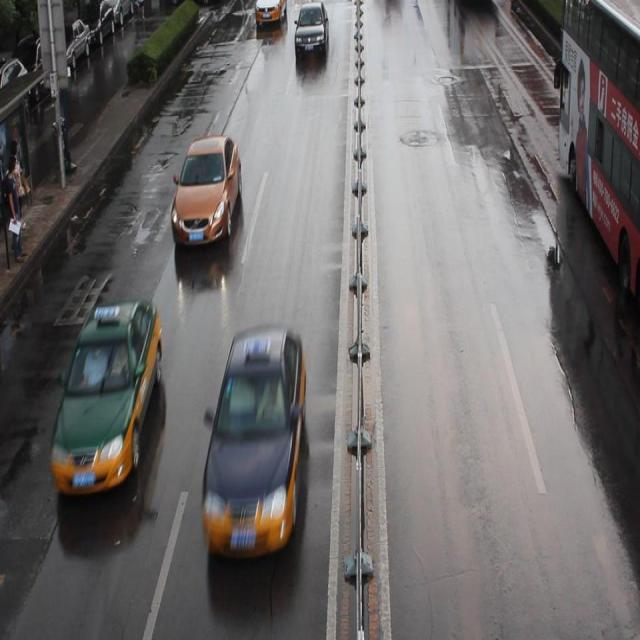car: (200, 320, 306, 557), (50, 298, 164, 496), (171, 132, 242, 246), (294, 1, 328, 56), (253, 1, 287, 25)
van: (556, 1, 640, 307), (453, 1, 492, 8)
